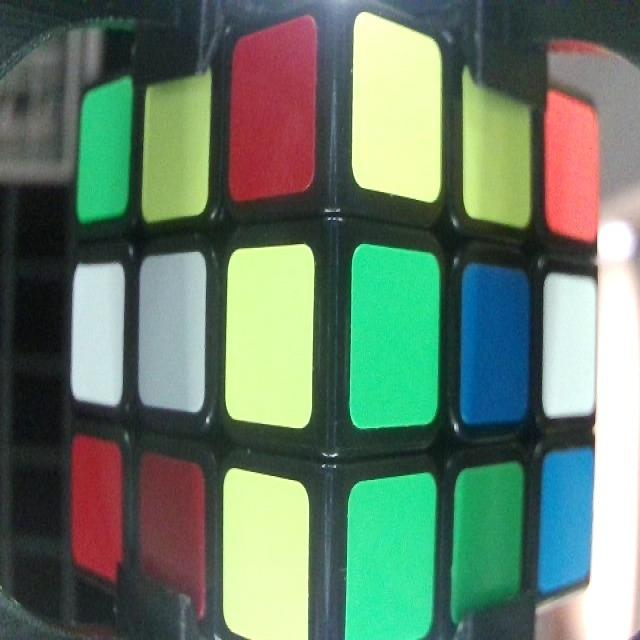b: (464, 287, 528, 410), (544, 459, 590, 572)
g: (352, 265, 437, 403), (351, 497, 432, 626), (458, 490, 520, 598), (82, 99, 129, 204)
o: (546, 121, 598, 228)
r: (233, 62, 314, 176), (142, 472, 201, 590), (72, 450, 122, 561)
w: (140, 268, 206, 394), (545, 290, 596, 406), (73, 278, 121, 390)
y: (229, 262, 312, 416), (224, 490, 309, 628), (355, 44, 442, 178), (464, 95, 532, 209), (145, 90, 209, 204)
